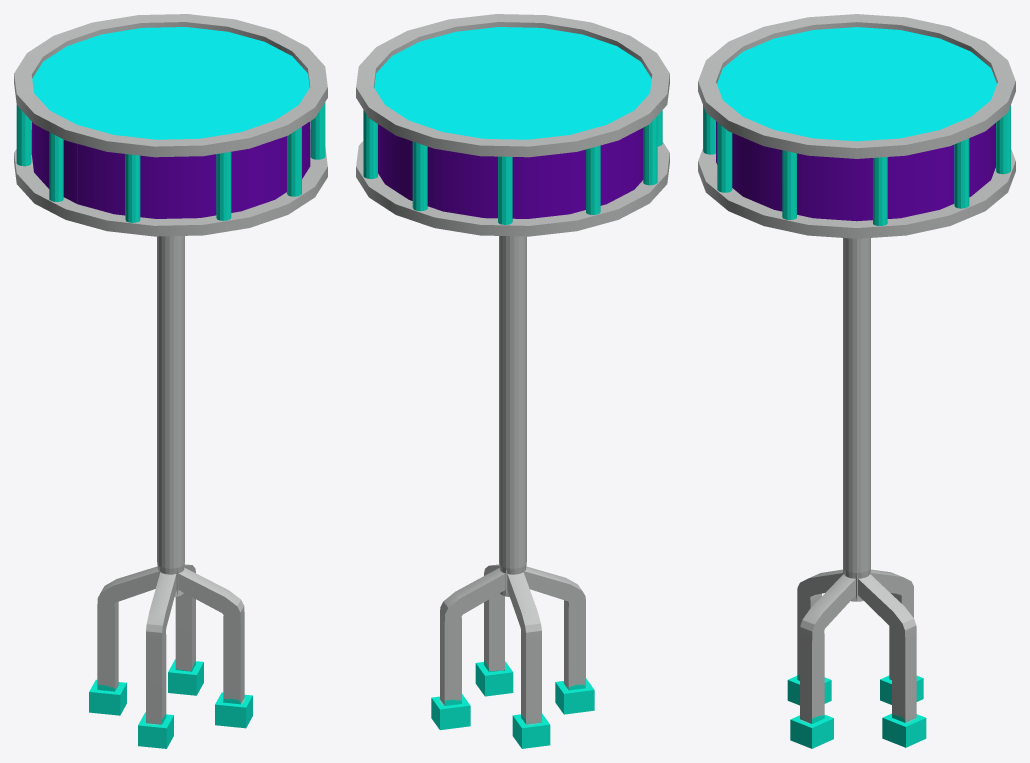
File: TOM_3.fbx
3 renders of one model, left to right at view 1: azimuth 30°, elevation 25°; view 2: azimuth 150°, elevation 25°; view 3: azimuth 270°, elevation 25°, orthographic.
Visible parts, largest first — view 1: pCylinder34; view 2: pCylinder34; view 3: pCylinder34.
Boxes of the visible parts, bbox=[...] form: pCylinder34: bbox=[14, 14, 327, 748]; pCylinder34: bbox=[356, 14, 669, 748]; pCylinder34: bbox=[698, 14, 1015, 748].
Bounding box in the file's own units: 3.85 × 8.55 × 3.85.
2 materials, 2 textured.
